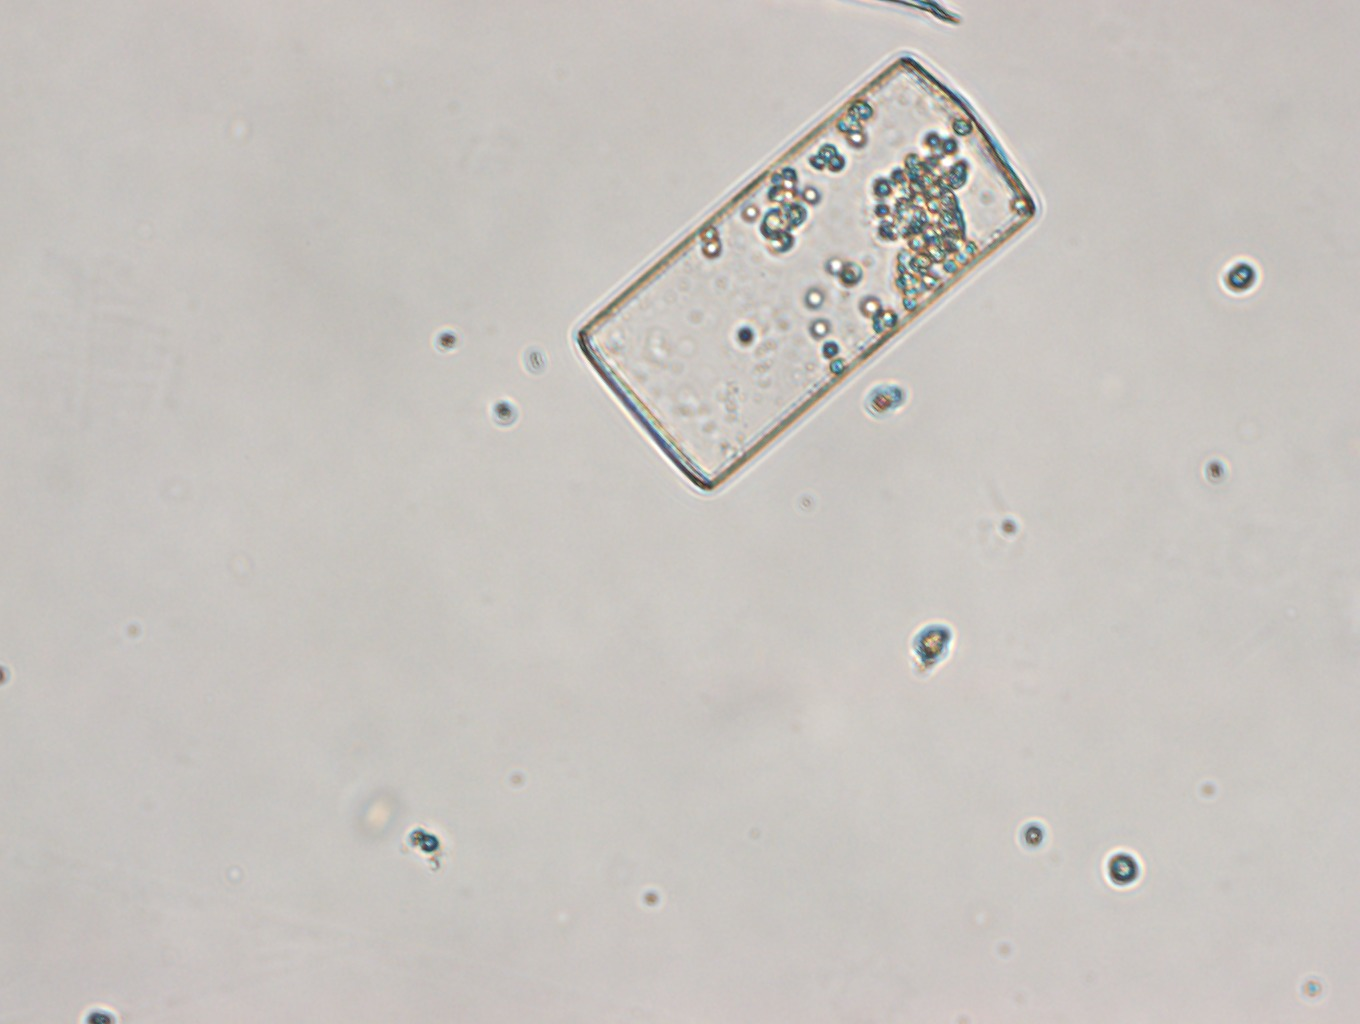guinardia flaccida: (571, 49, 1046, 502)
